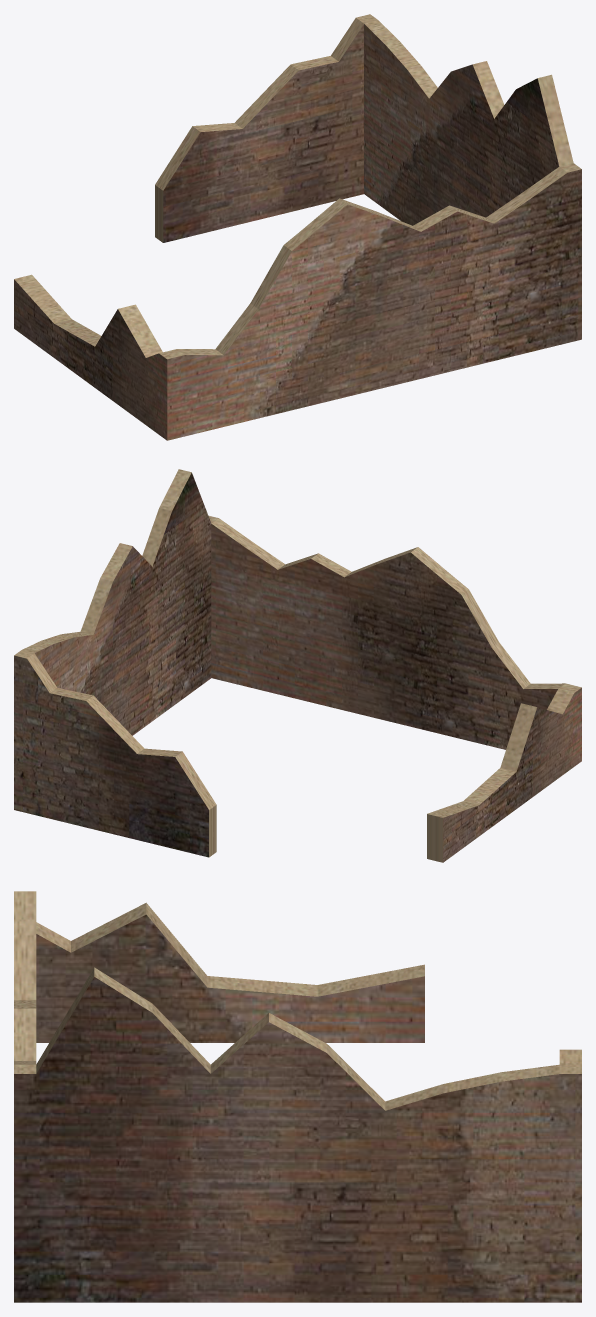
File: ruins_house7.dae
3 renders of one model, top to bottom at view 1: azimuth 30°, elevation 25°; view 2: azimuth 150°, elevation 25°; view 3: azimuth 270°, elevation 25°, orthographic. The views are drawn at different scales.
Visible parts, largest first — view 1: Cube; view 2: Cube; view 3: Cube.
Boxes of the visible parts, box(x1,y1,x2,y2) form: Cube: box(14, 14, 581, 440); Cube: box(14, 469, 581, 862); Cube: box(14, 891, 581, 1302).
Size of the model in its own units: 23.1 by 20.43 by 12.93.
1 material, 1 textured.
